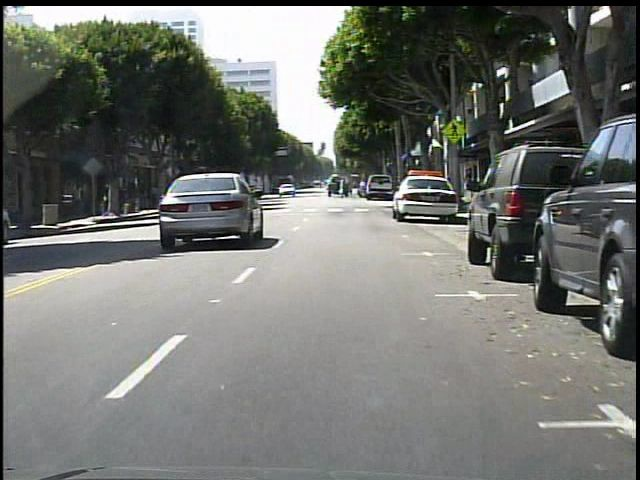person: (75, 181, 86, 214), (115, 187, 127, 216), (111, 185, 120, 213), (342, 176, 343, 198)
